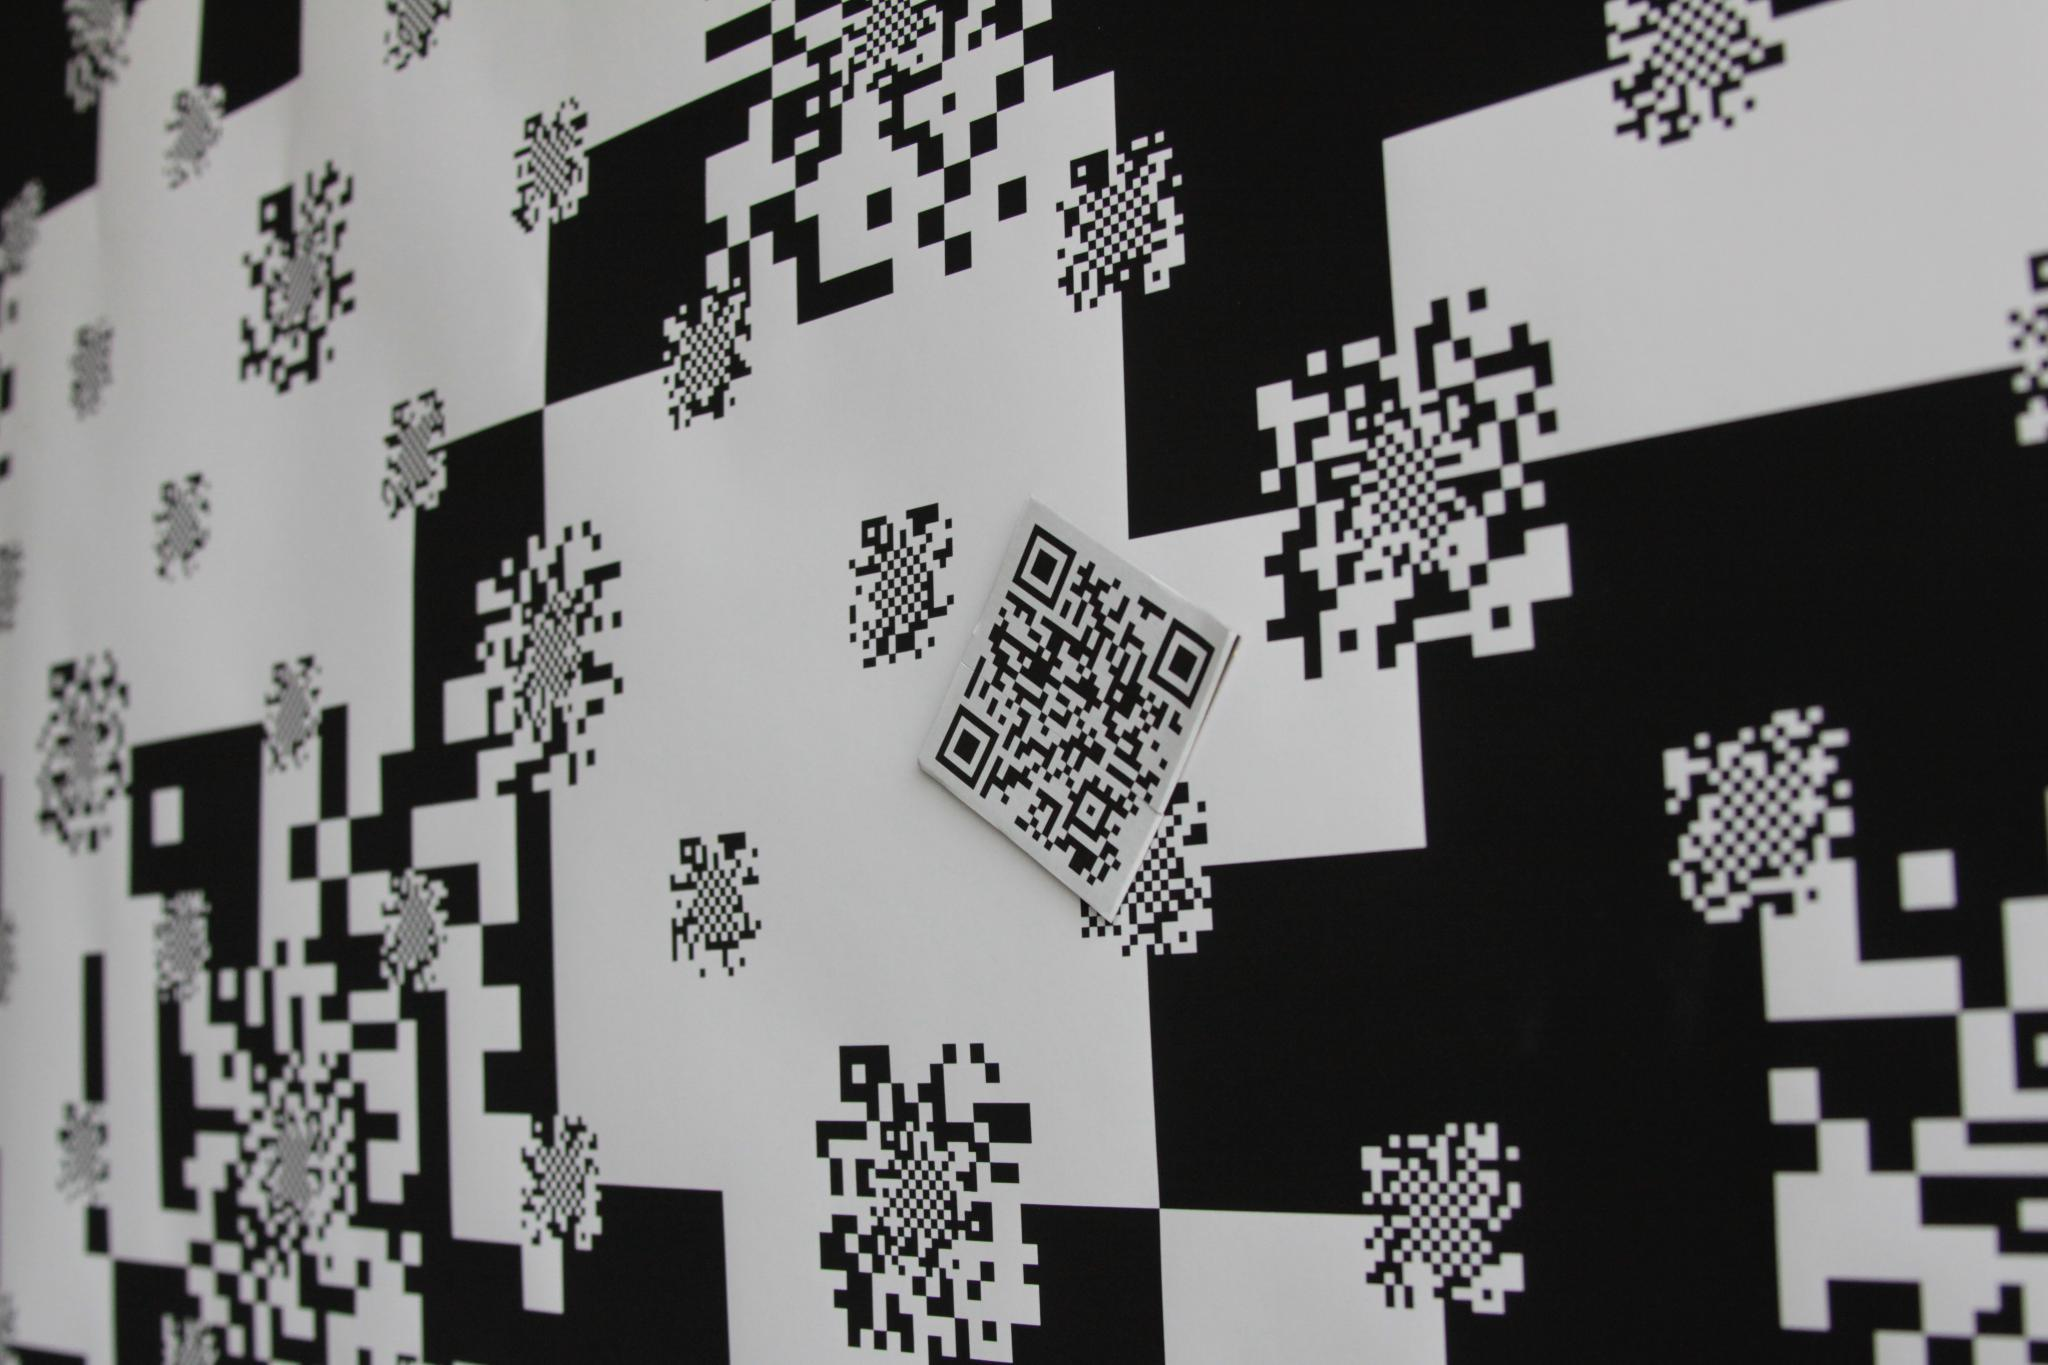Finder pattern: (1139, 614, 1220, 710), (932, 698, 1000, 792), (1005, 526, 1080, 609)
